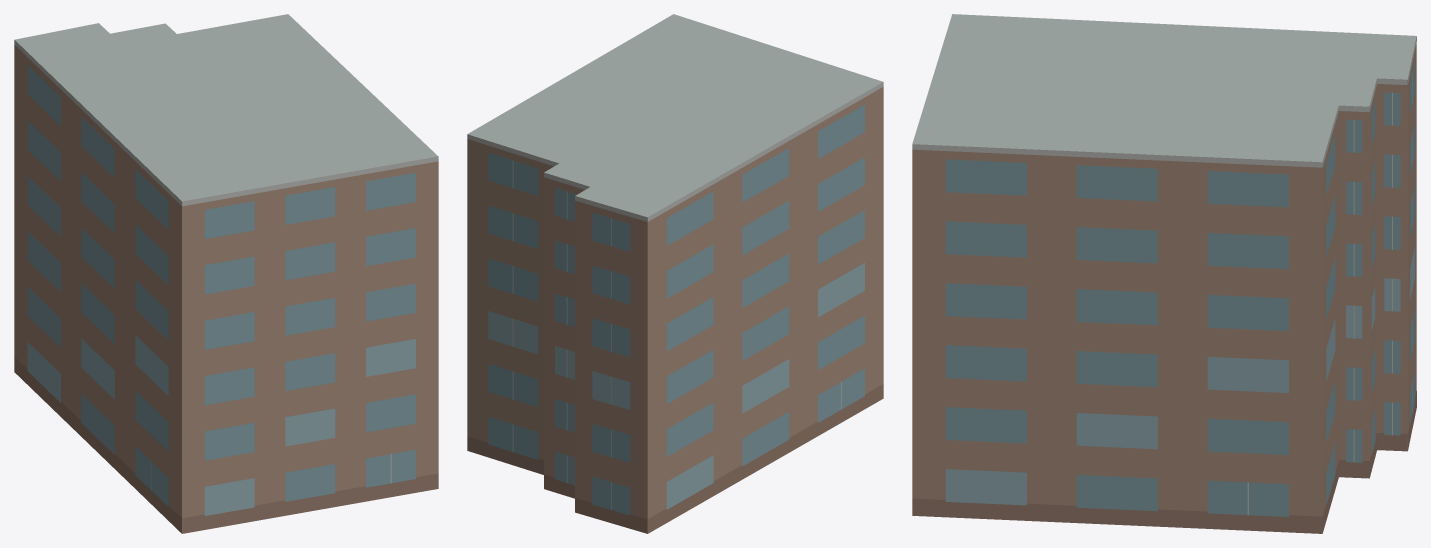
Rendered from survey-upis-32868192.glb.
3 renders of one model, left to right at view 1: azimuth 30°, elevation 25°; view 2: azimuth 150°, elevation 25°; view 3: azimuth 270°, elevation 25°, orthographic. The views are drawn at different scales.
Parts seen in each view (by area): view 1: survey-upis-32868192.tmp; view 2: survey-upis-32868192.tmp; view 3: survey-upis-32868192.tmp.
Boxes of the visible parts, box(x1,y1,x2,y2) form: survey-upis-32868192.tmp: box(14, 14, 438, 533); survey-upis-32868192.tmp: box(467, 14, 883, 533); survey-upis-32868192.tmp: box(912, 14, 1416, 533).
Bounding box in the file's own units: 14.21 × 16.6 × 20.44.
